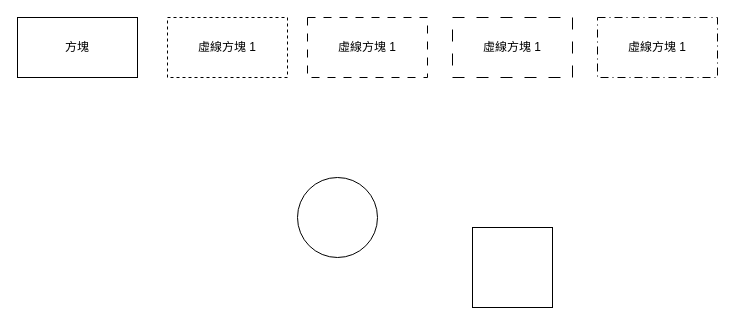
Image size: 735x325. Some labels were removed from this diagram. Each missing label, with the centre of its shape:
圓形: the point at 337,217
正方形: the point at 512,267
